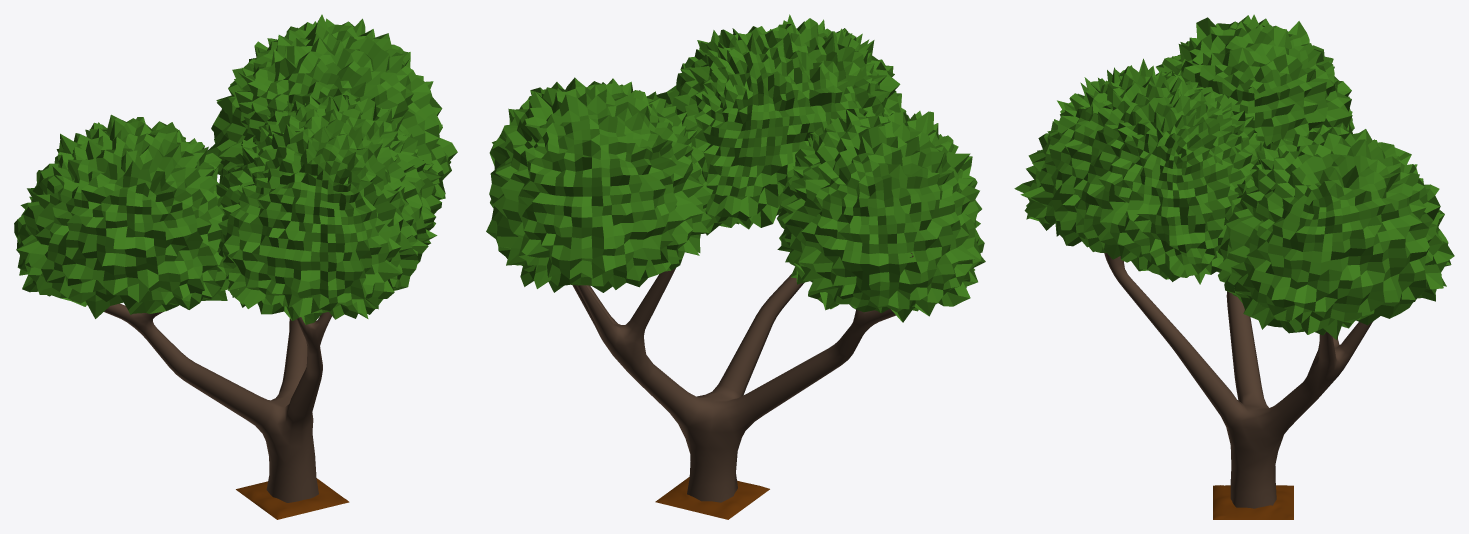
File: magnolia.glb
The picture shows the model from 3 angles, left to right: view 1: azimuth 30°, elevation 25°; view 2: azimuth 150°, elevation 25°; view 3: azimuth 270°, elevation 25°; orthographic projection. The views are drawn at different scales.
Visible parts, largest first — view 1: 5_nft_summer; view 2: 5_nft_summer; view 3: 5_nft_summer.
Part boxes in pixels (x1=…): 5_nft_summer: x1=14, y1=14, x2=457, y2=519; 5_nft_summer: x1=486, y1=14, x2=985, y2=519; 5_nft_summer: x1=1014, y1=14, x2=1454, y2=519.
Size of the model in its own units: 8.64 by 7.91 by 7.6.
